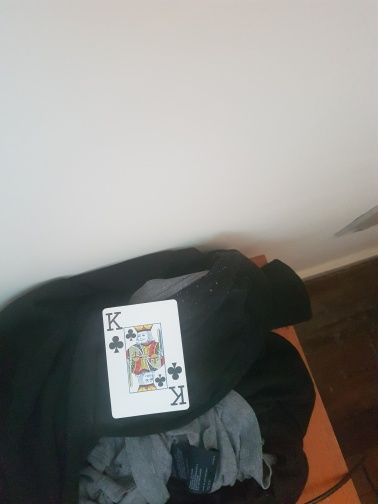king: (102, 299, 189, 419)
